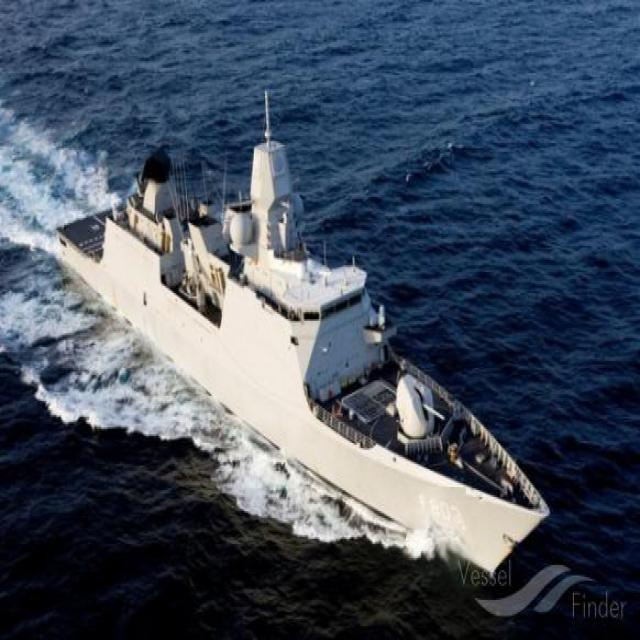OCR: (406, 488, 467, 542)
